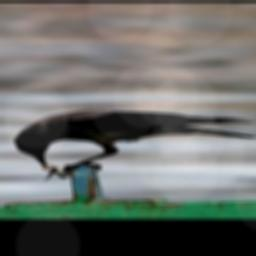Crow: (13, 108, 256, 172)
